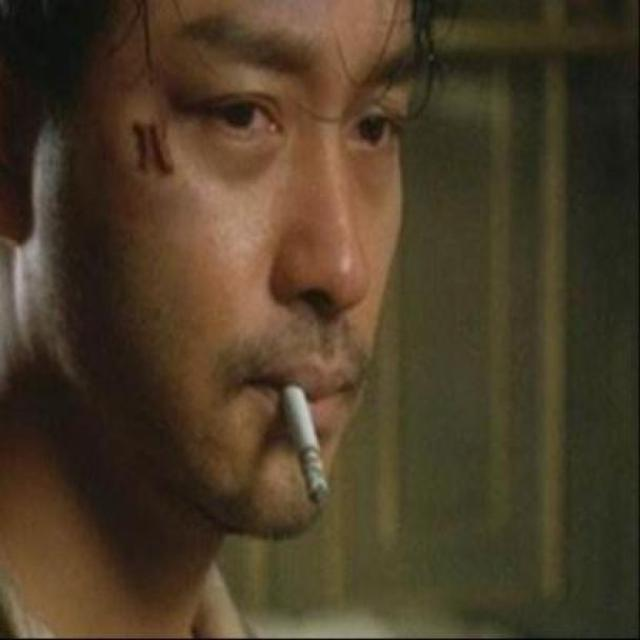rokok: (276, 378, 332, 509)
